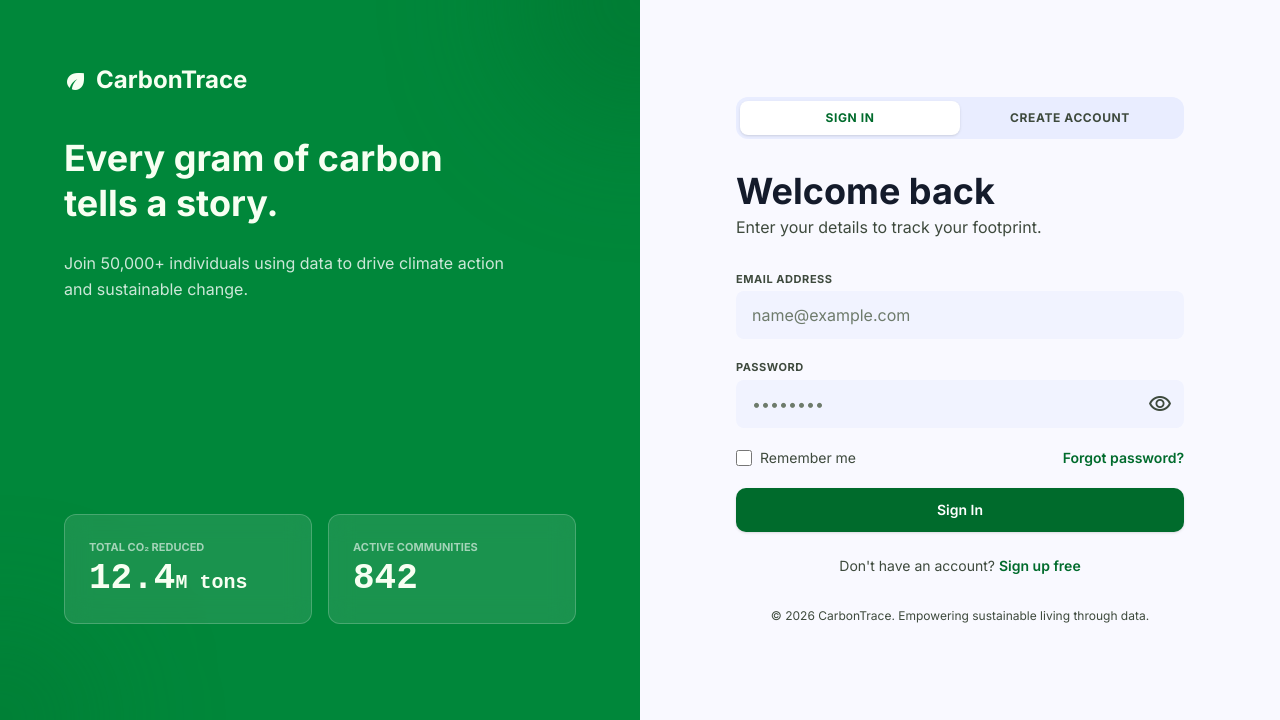
Scenario: LoginForm › displays API error message on failed login
The width and height of the screenshot is (1280, 720).
Type "wrong@example.com" into the field labelled "Email Address" at (960, 315), box [736,291,1184,339]
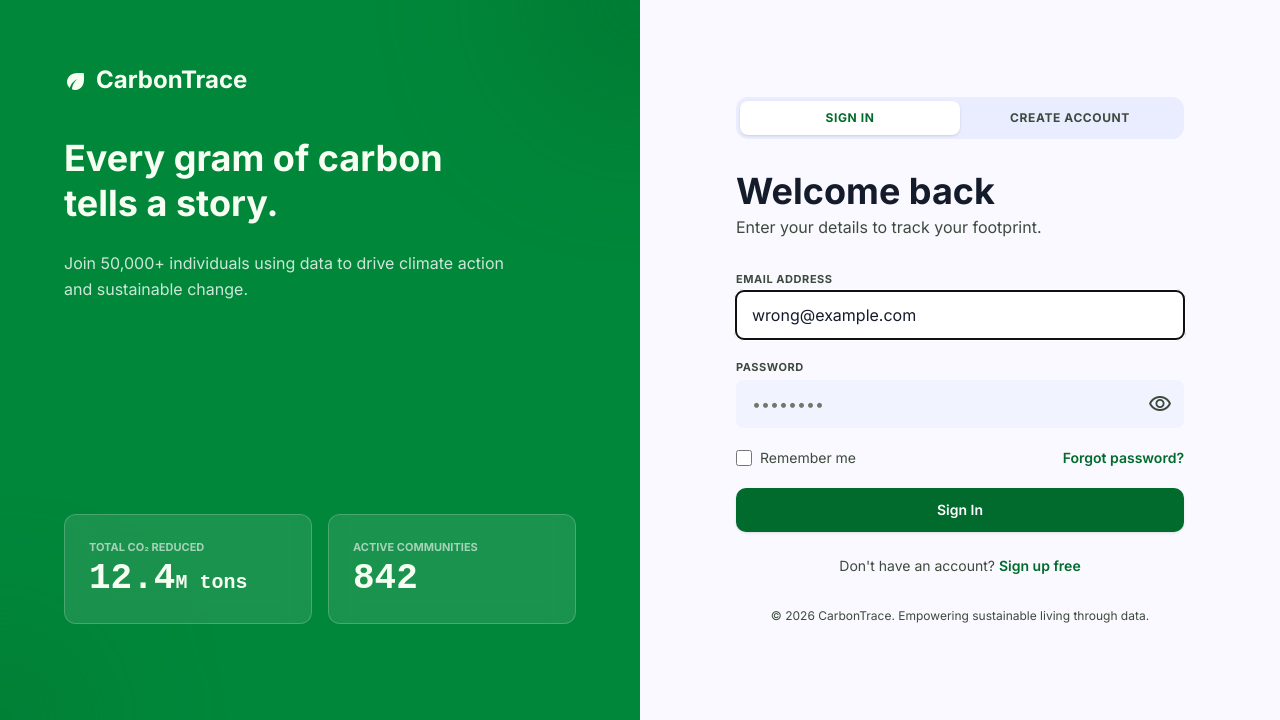
Type "wrongpass" into the password field labelled "Password" at (960, 404), box [736,380,1184,428]
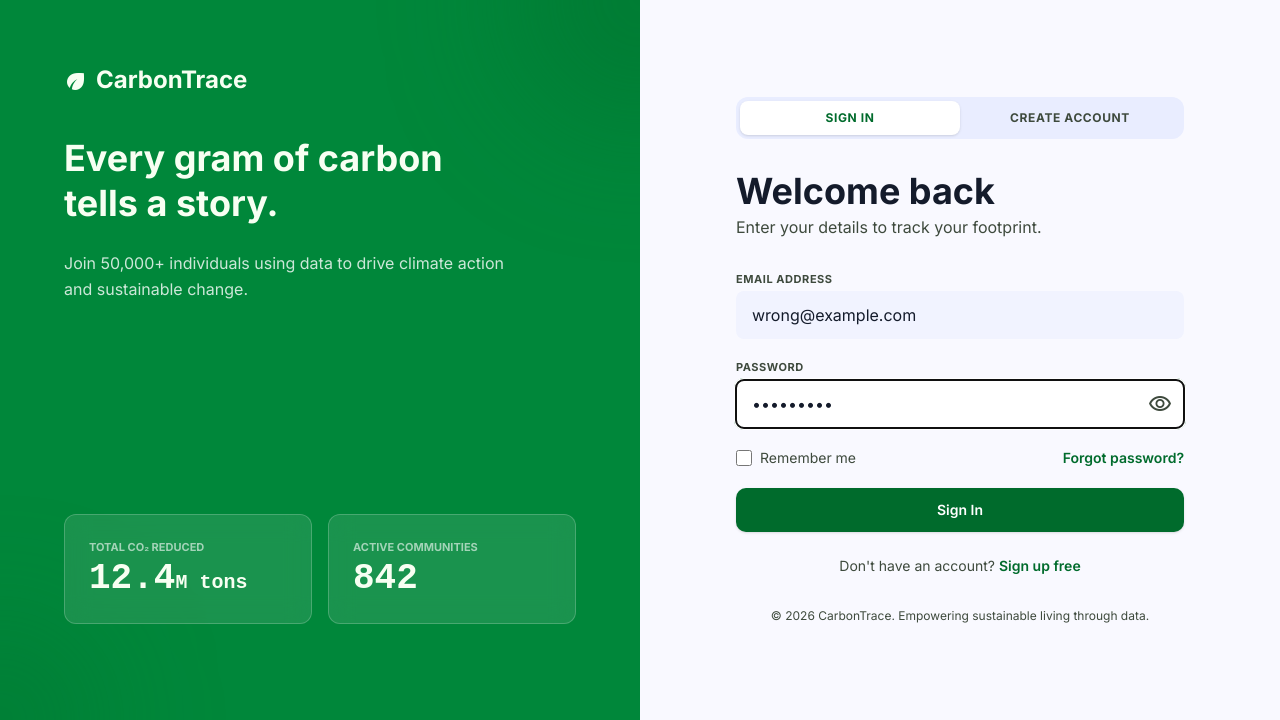
Click the button "Sign In" at (960, 510), box [736,488,1184,532]
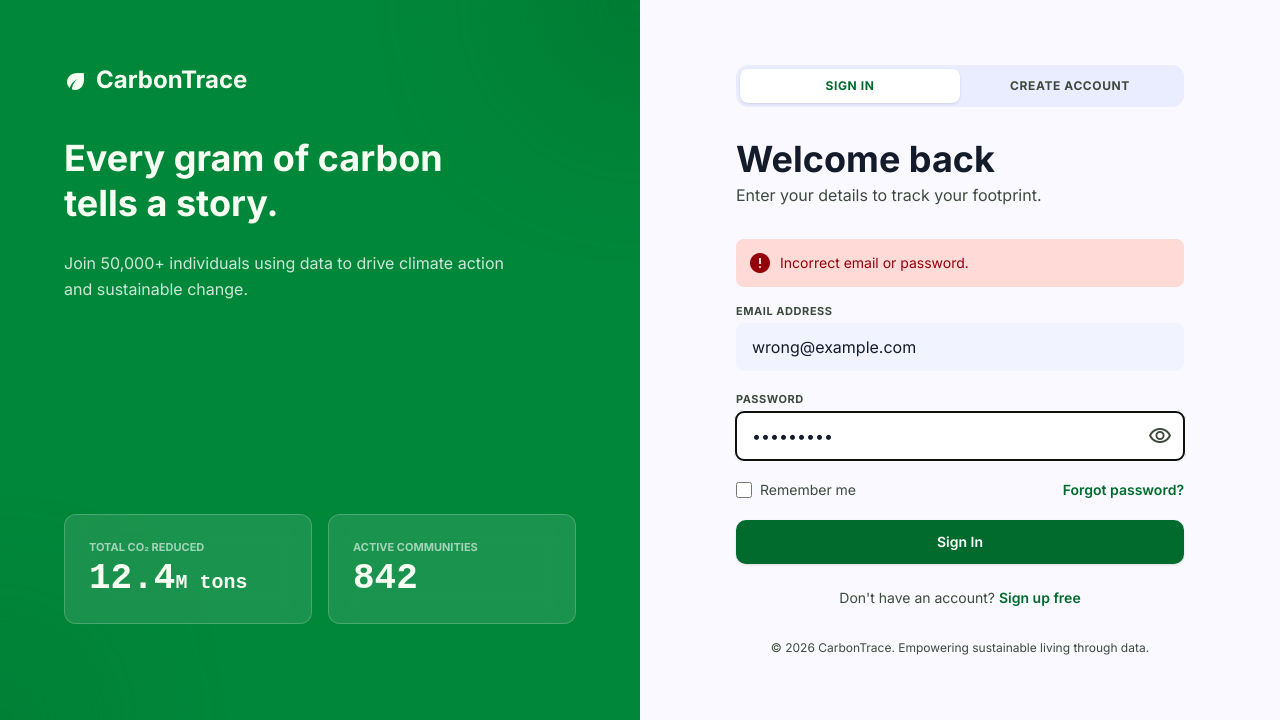
Expected: the message reads "Incorrect email or password.", [780,254,969,270]
